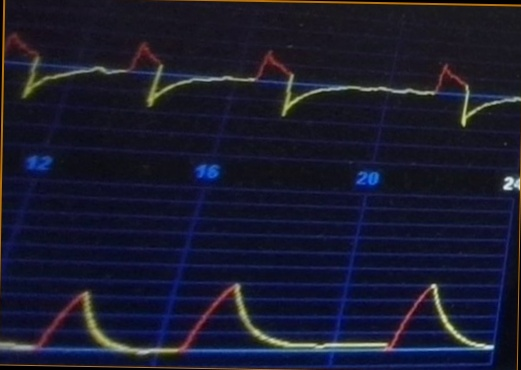Ineffective_effort Flow: (5, 20, 519, 130)
Ineffective_effort Volume: (1, 268, 486, 357)
